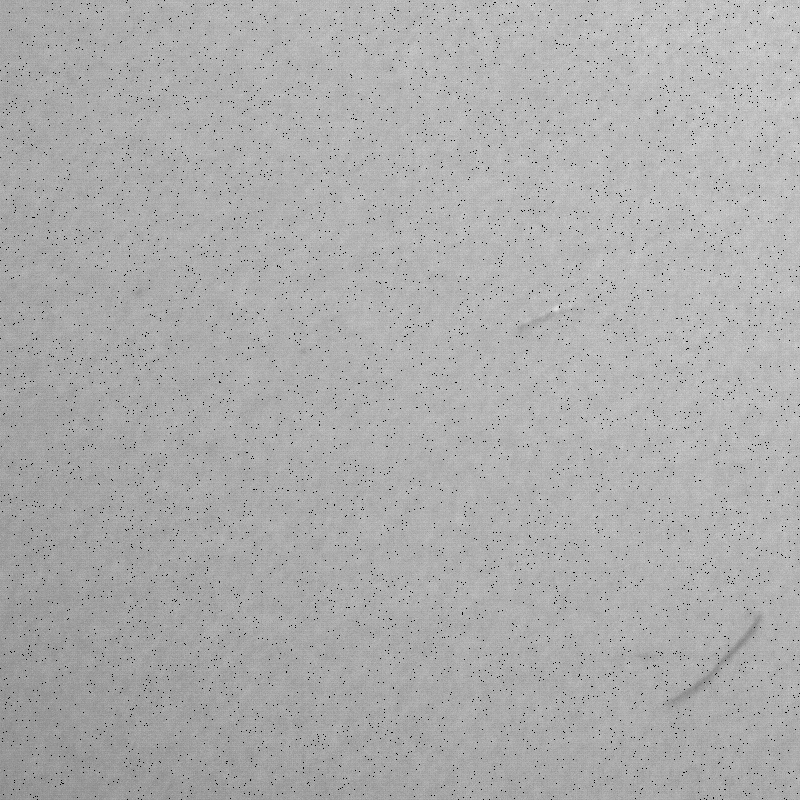defect: (634, 592, 777, 713), (485, 292, 607, 340)
